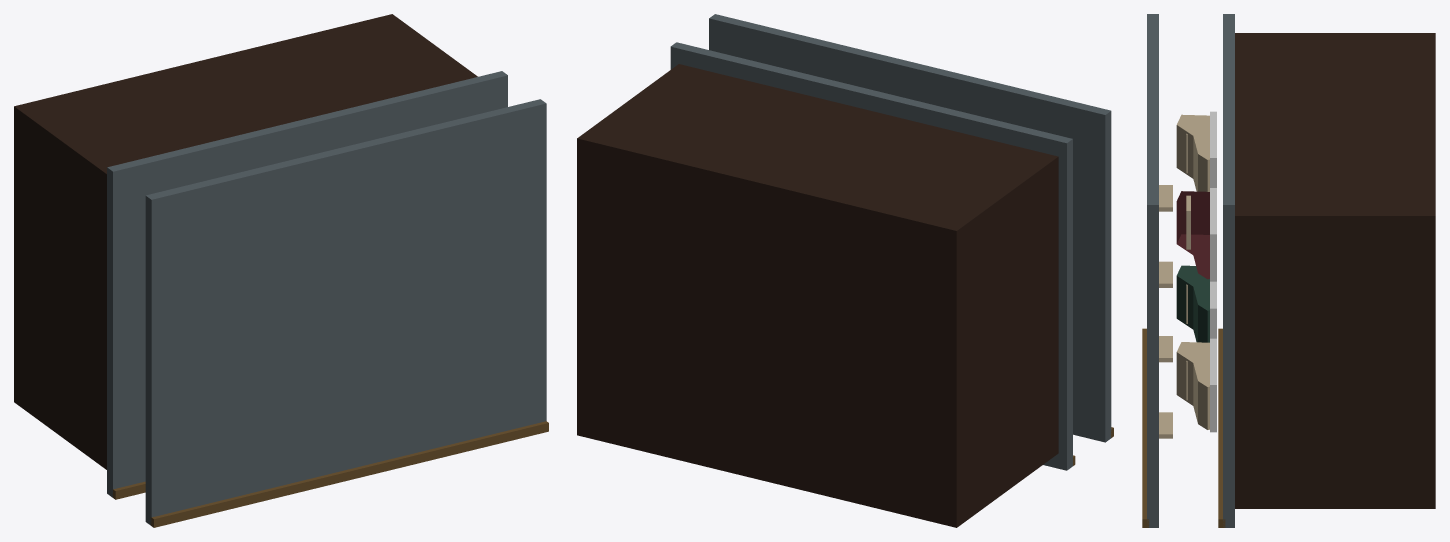
The model's file is SM_BSW_Department_ShoeDisplay_Short_B.obj.
3 views of the same model, side by side, from view 1: azimuth 30°, elevation 25°; view 2: azimuth 150°, elevation 25°; view 3: azimuth 270°, elevation 25° (orthographic).
Parts seen in each view (by area): view 1: SM_BSW_Department_ShoeDisplay_Short_B; view 2: SM_BSW_Department_ShoeDisplay_Short_B; view 3: SM_BSW_Department_ShoeDisplay_Short_B.
Part boxes in pixels (x1,y1,x2,y2): SM_BSW_Department_ShoeDisplay_Short_B: [14, 14, 548, 527]; SM_BSW_Department_ShoeDisplay_Short_B: [577, 14, 1113, 527]; SM_BSW_Department_ShoeDisplay_Short_B: [1142, 14, 1435, 527].
Bounding box in the file's own units: 190 × 150 × 124.
